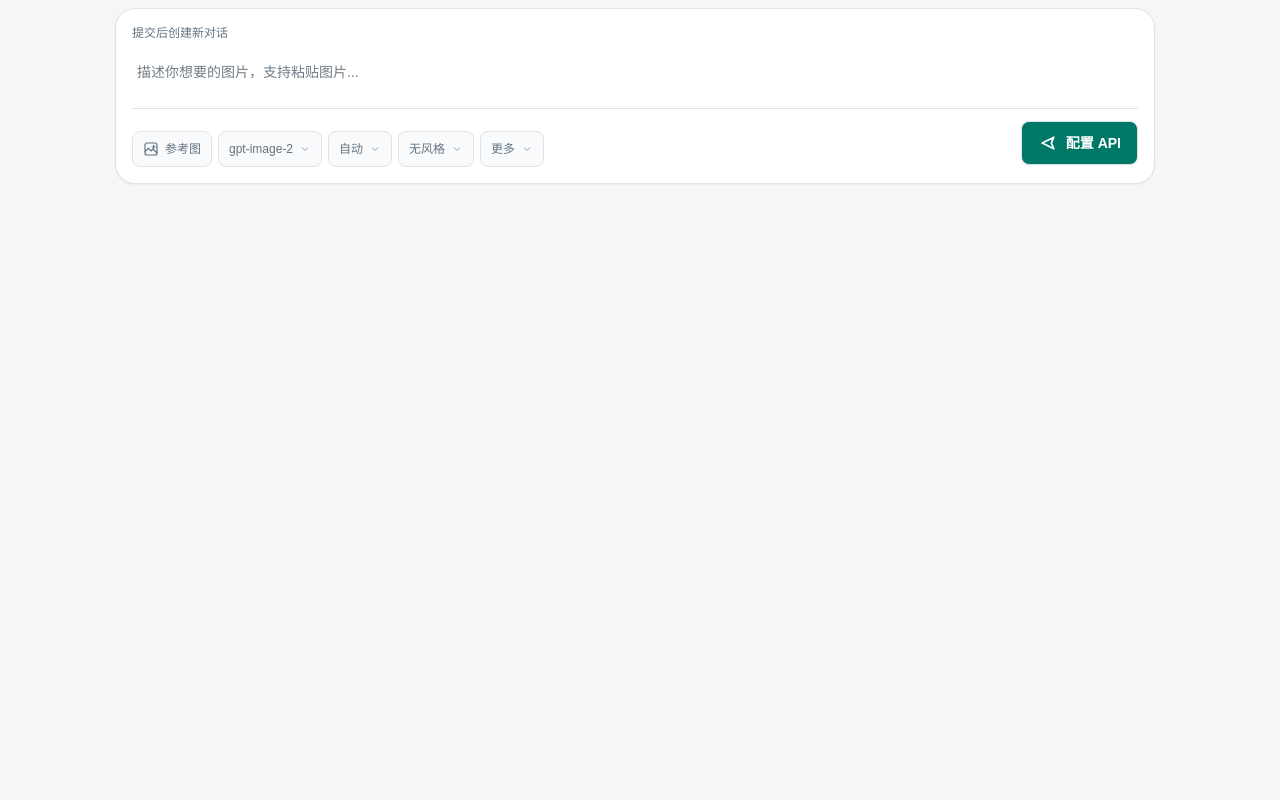
Test: InputBar › rejects oversized caption source files before reading them
The image size is (1280, 800).
What coordinates should you click on to do the following:
click the button with aria-label "更多创作工具"
I would click on:
 (512, 149)
Its box is [480,131,544,167].
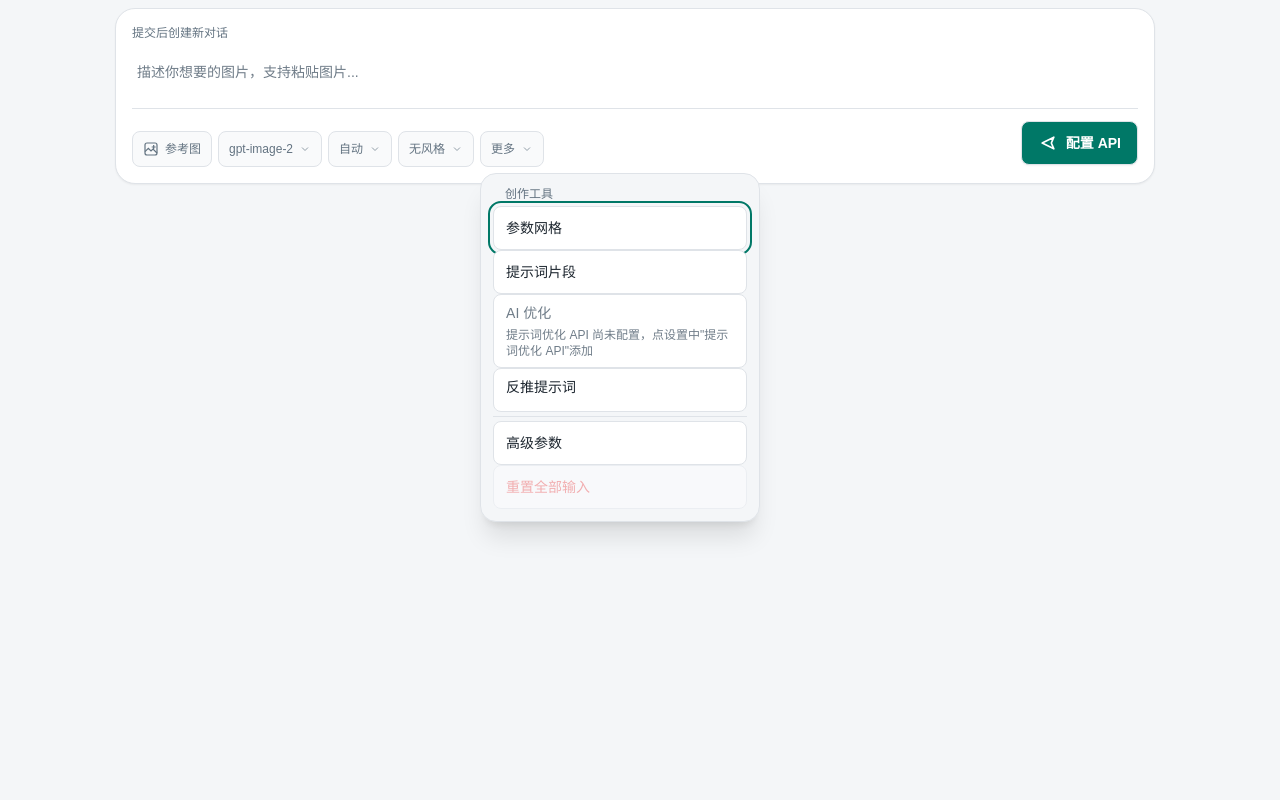
Now the button with aria-label "图生文 / 反推提示词" is enabled, box [493,368,747,412]
